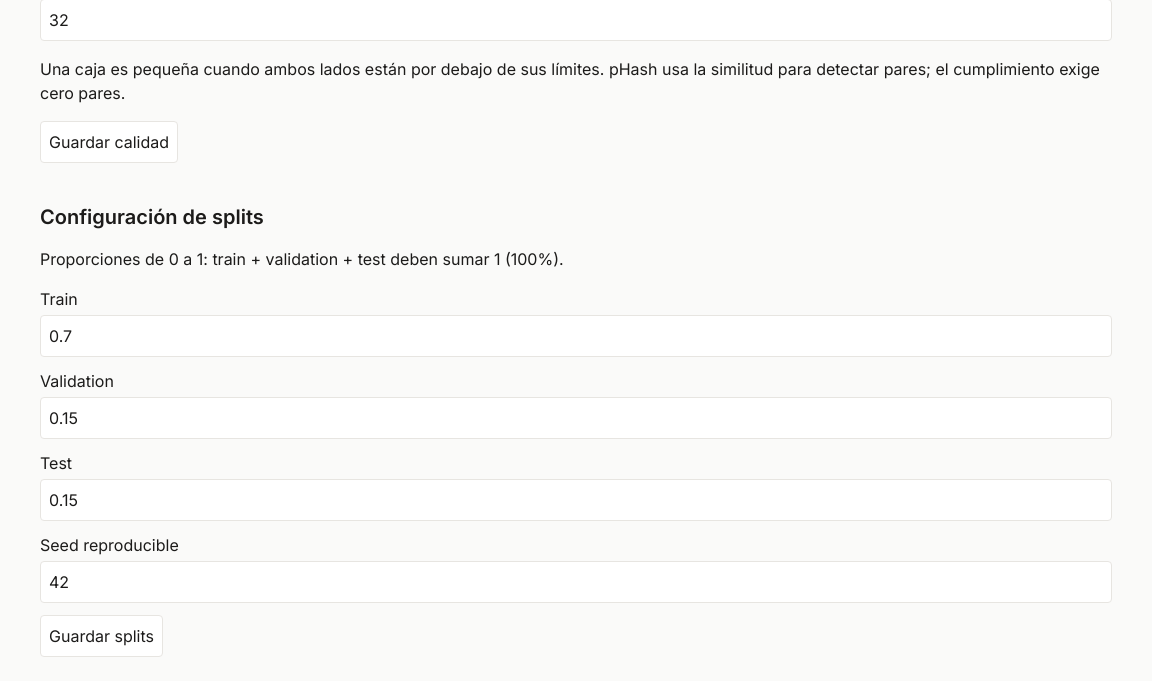
Test: validates ratio sum before PUT
This screenshot has width=1152, height=681.
(page scrolled)
Replace the text in the number field labelled "Train" with "0.5" at (576, 336), box left=40, top=315, right=1112, bottom=357
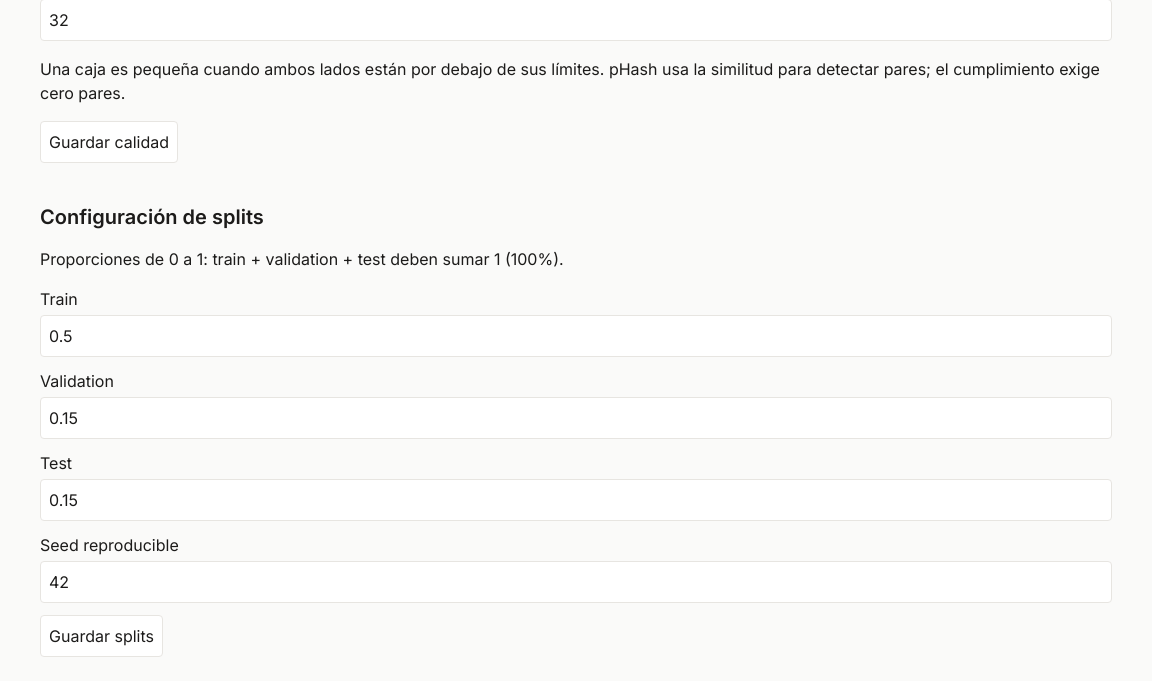
Submit the form "Configuración de splits"
(page scrolled)
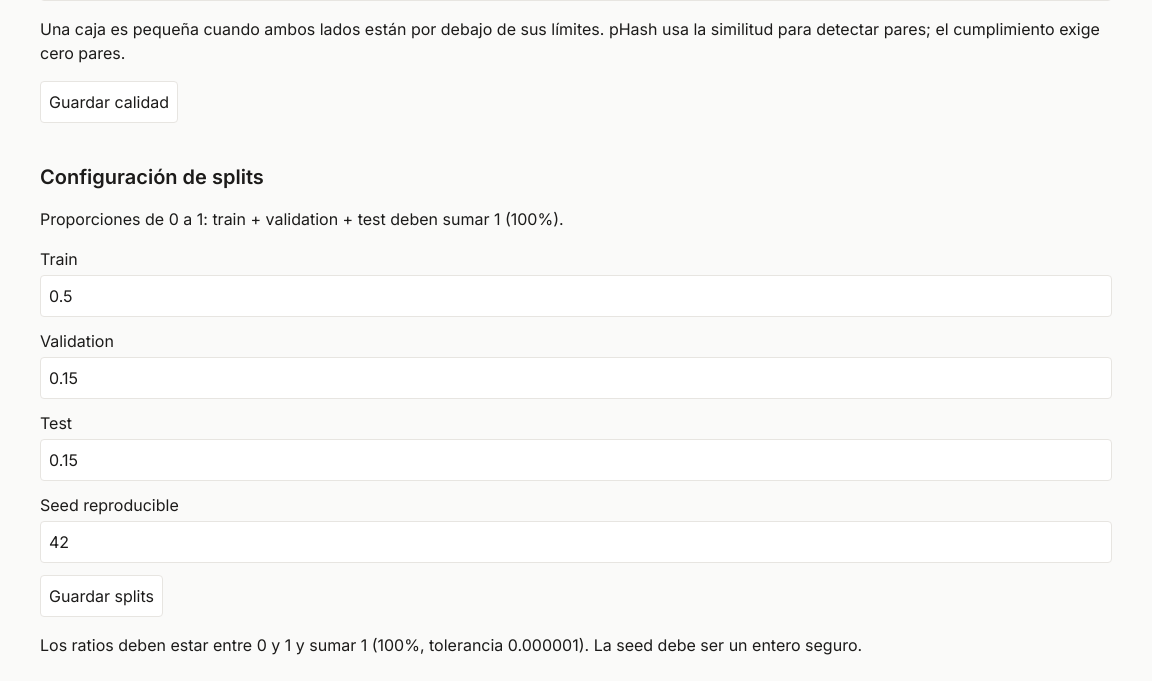
Check: the message shows "100%", box left=40, top=635, right=862, bottom=655
